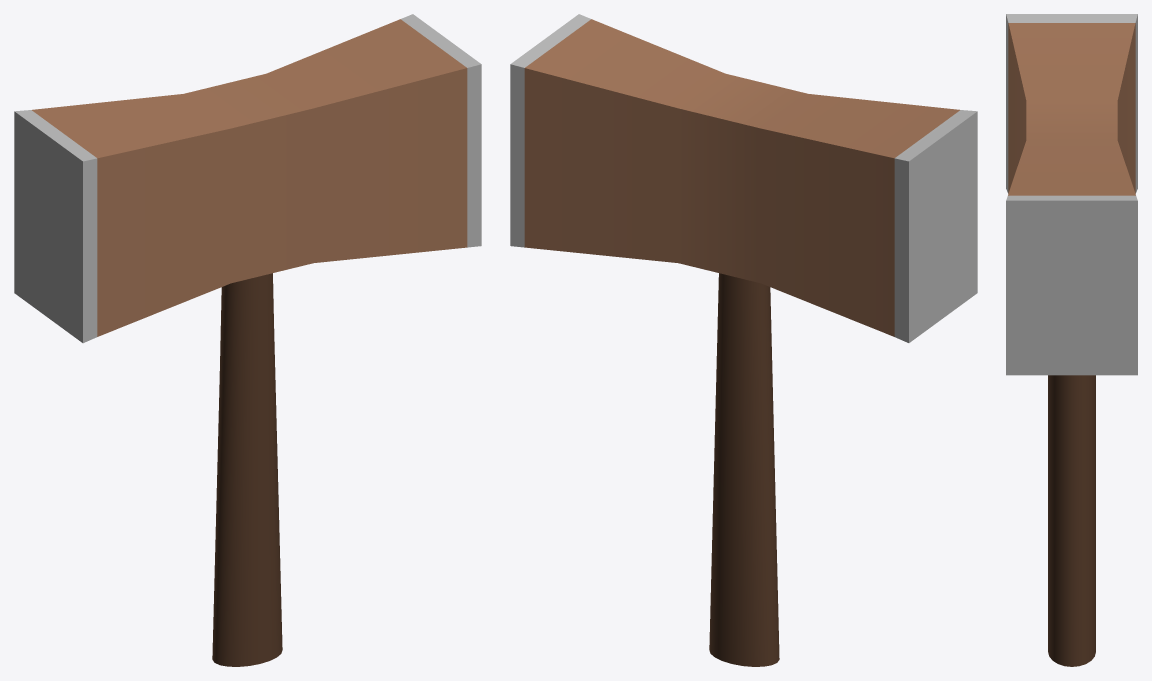
The model's file is hanma.fbx.
3 views of the same model, side by side, from view 1: azimuth 30°, elevation 25°; view 2: azimuth 150°, elevation 25°; view 3: azimuth 270°, elevation 25° (orthographic). The views are drawn at different scales.
Parts seen in each view (by area): view 1: pCube2; view 2: pCube2; view 3: pCube2.
Part boxes in pixels (left/top/right/bottom): pCube2: left=14, top=14, right=481, bottom=666; pCube2: left=510, top=14, right=977, bottom=666; pCube2: left=1006, top=14, right=1137, bottom=666.
Bounding box in the file's own units: 3.87 × 5.26 × 1.15.
